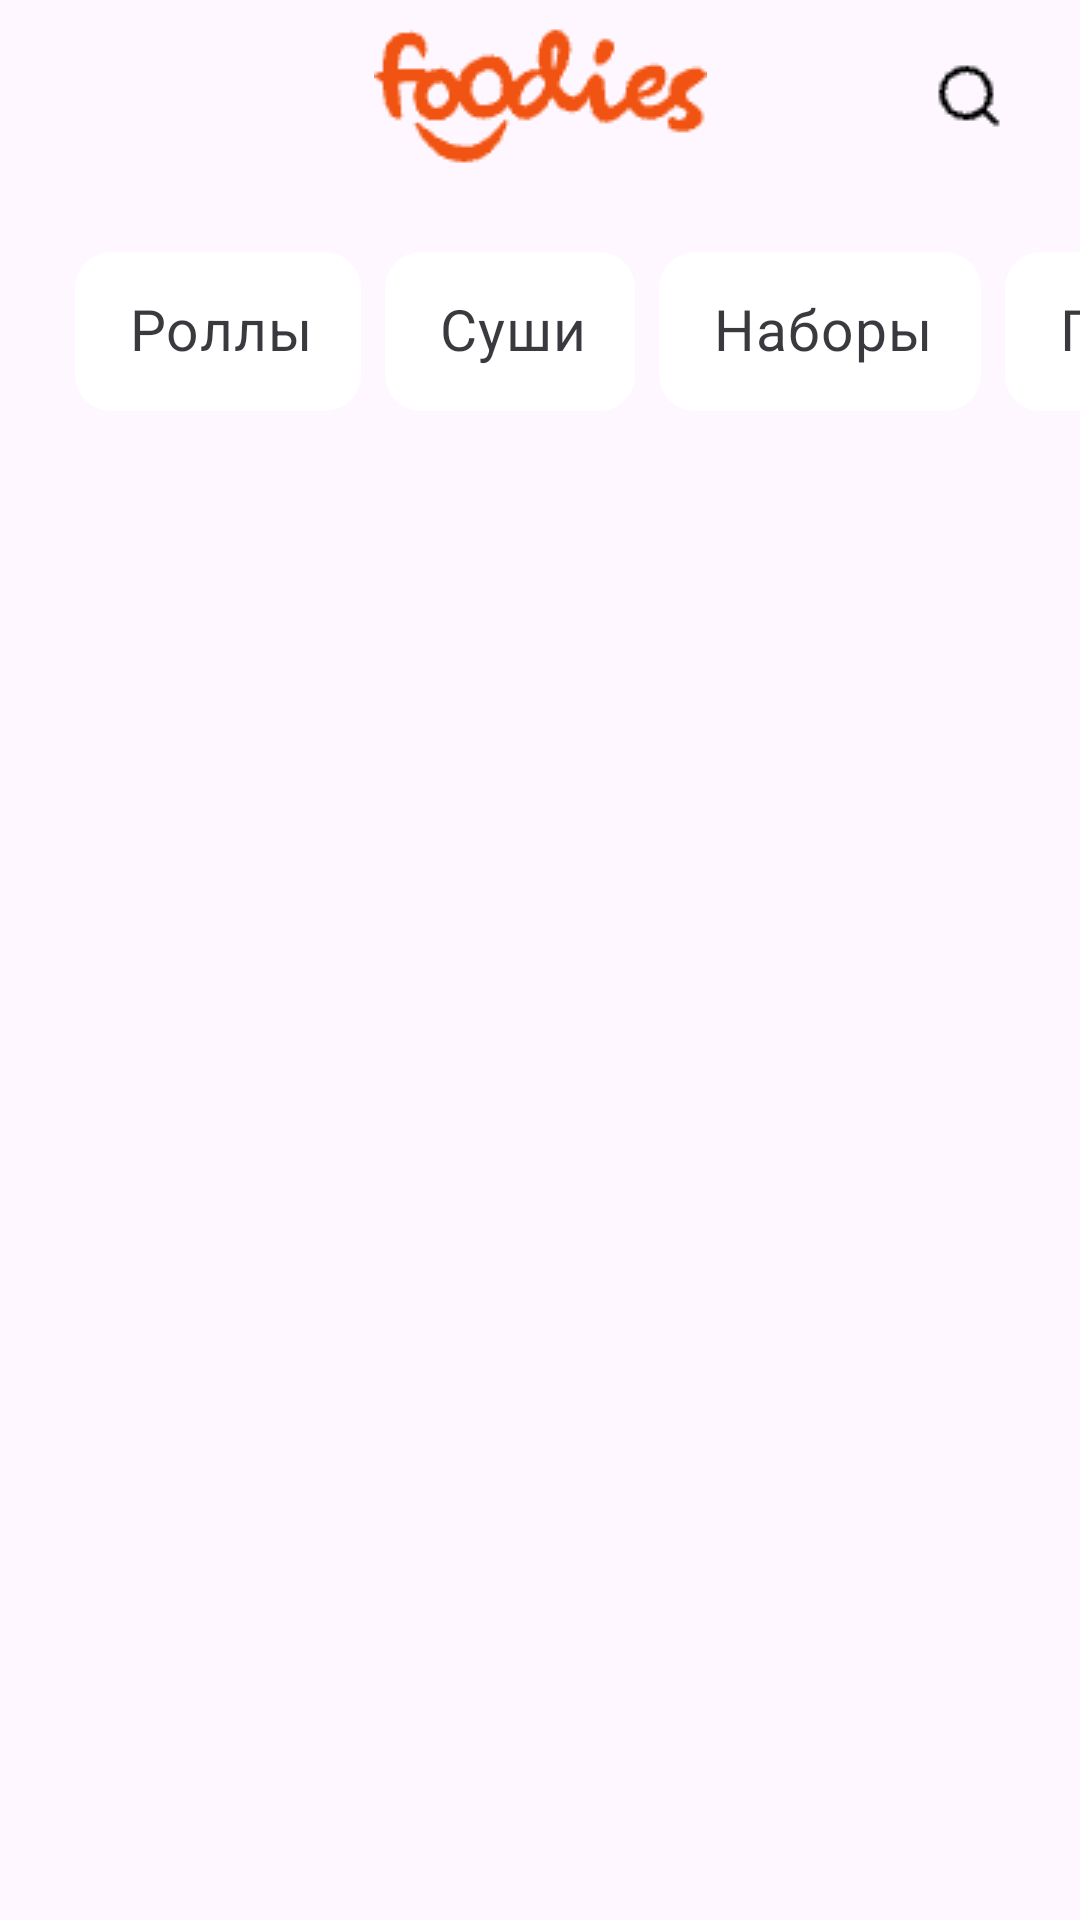

Icon bounding boxes for this 1080 × 1920 phone screenshot, format rect(x1, y1, x2, y2):
search: rect(938, 65, 1000, 127)
